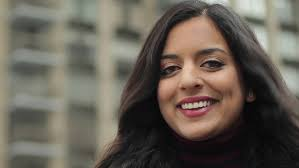indian_female: (137, 1, 269, 140)
